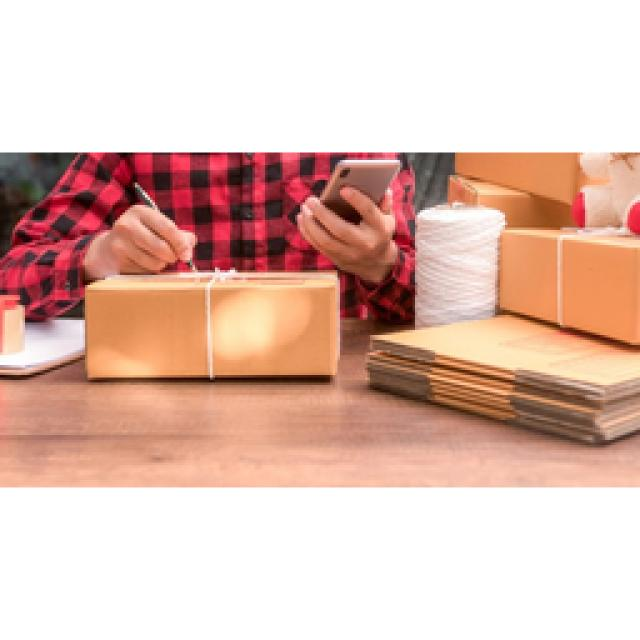cardboard: (370, 228, 638, 438), (85, 272, 335, 375)
